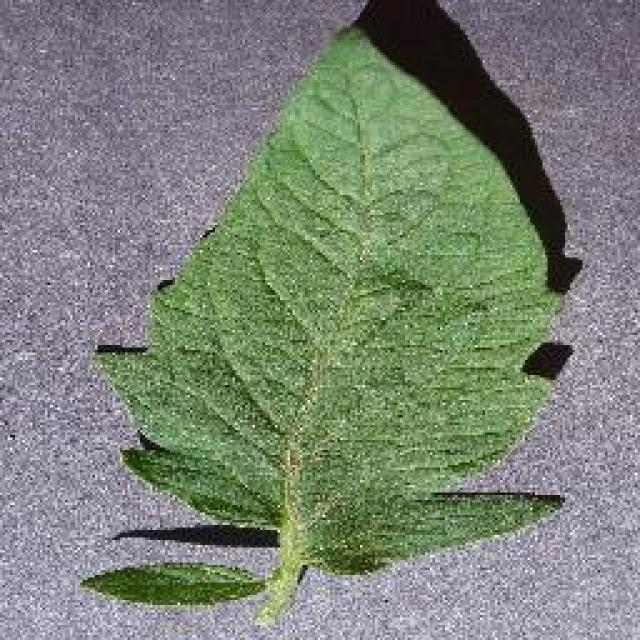Tomato___healthy: (79, 23, 567, 622)
